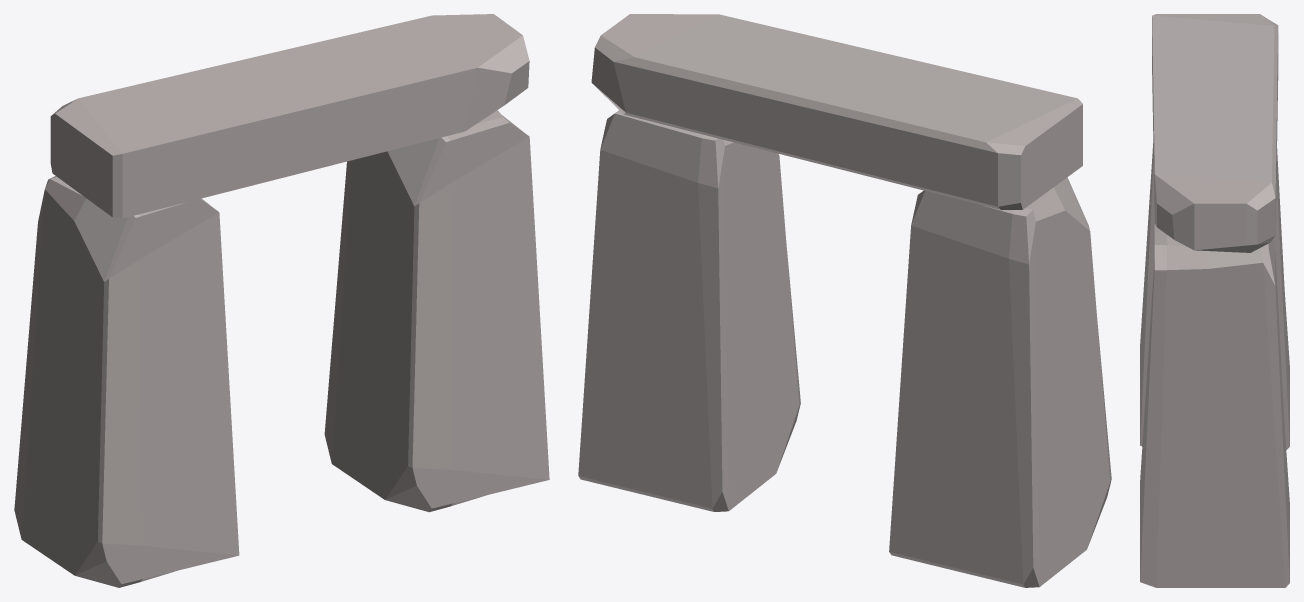
Rendered from StoneHenge_StoneBridge.fbx.
The picture shows the model from 3 angles, left to right: view 1: azimuth 30°, elevation 25°; view 2: azimuth 150°, elevation 25°; view 3: azimuth 270°, elevation 25°; orthographic projection. The views are drawn at different scales.
Parts seen in each view (by area): view 1: StoneHenge_StoneBridge; view 2: StoneHenge_StoneBridge; view 3: StoneHenge_StoneBridge.
Boxes of the visible parts, box(x1,y1,x2,y2) form: StoneHenge_StoneBridge: box(14, 14, 549, 587); StoneHenge_StoneBridge: box(578, 14, 1111, 587); StoneHenge_StoneBridge: box(1140, 14, 1289, 587).
Bounding box in the file's own units: 311 × 97.64 × 278.
